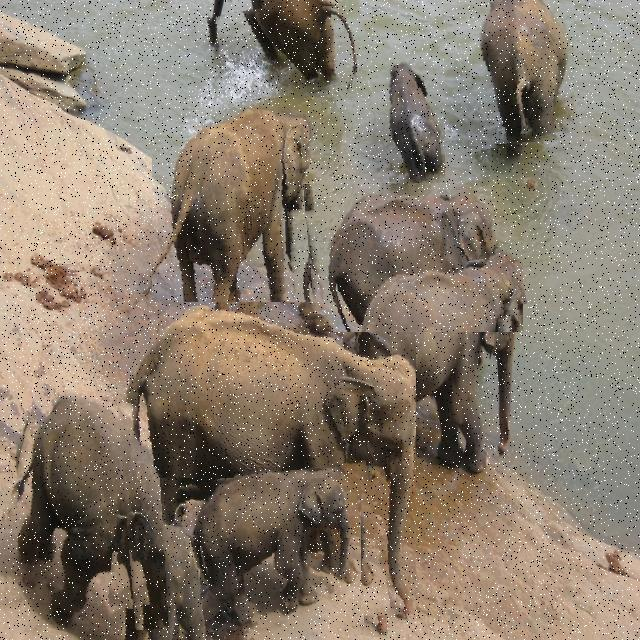elephant: (109, 302, 416, 630), (0, 393, 217, 640), (152, 102, 335, 320), (303, 184, 523, 332), (160, 478, 361, 636), (456, 0, 574, 146), (198, 0, 372, 98), (371, 53, 445, 183)
